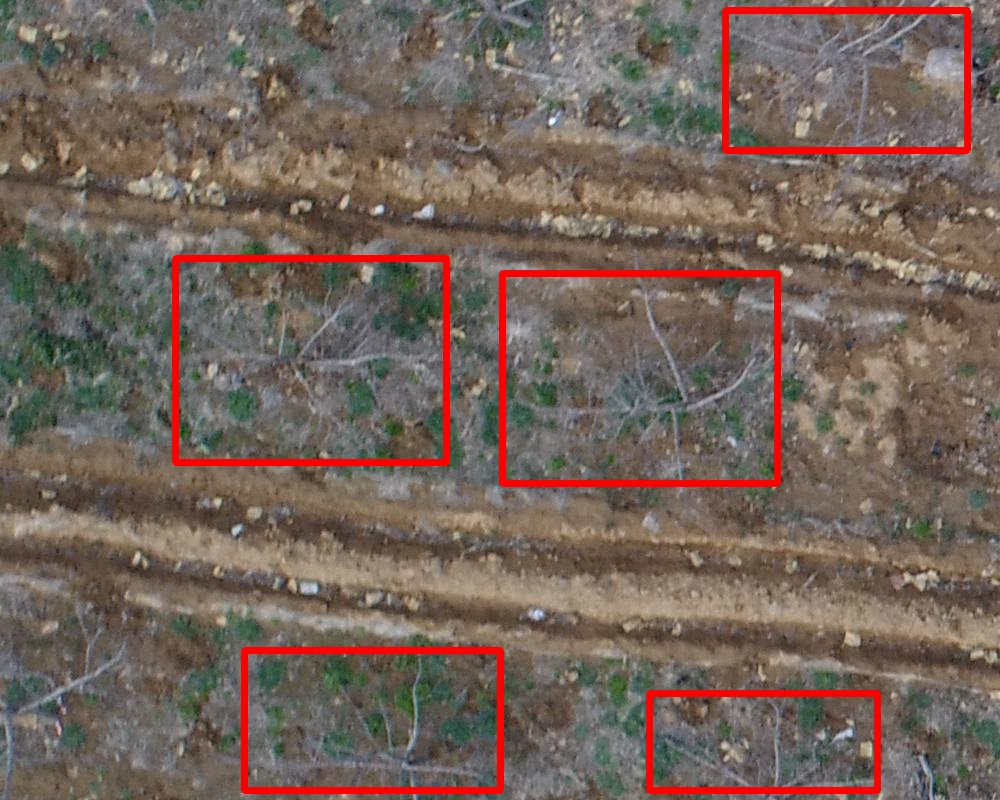apple: (502, 273, 777, 483), (175, 258, 446, 462), (244, 650, 500, 790), (725, 10, 967, 150), (649, 693, 877, 790)
